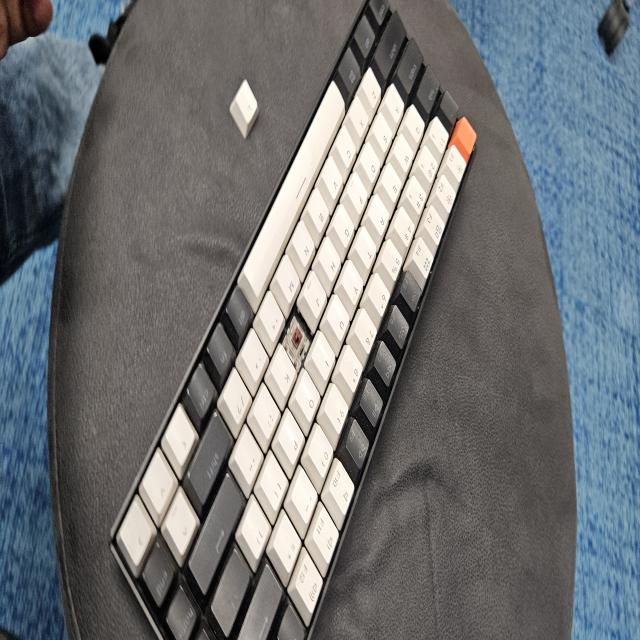C: (293, 317, 303, 355)
